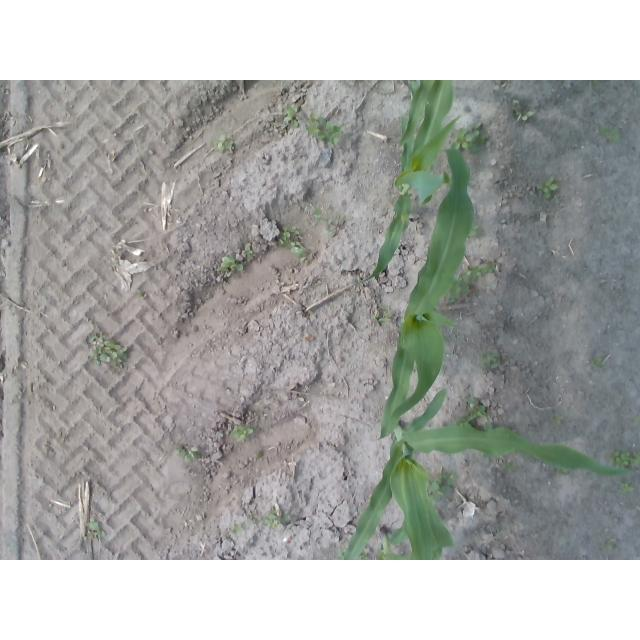Maize: (344, 389, 629, 560), (377, 149, 476, 444), (356, 81, 462, 284), (402, 81, 430, 148), (376, 526, 409, 558)
Weeds: (87, 334, 127, 370), (174, 442, 203, 463), (318, 120, 342, 144), (266, 508, 291, 530), (513, 101, 535, 123), (612, 452, 640, 469), (538, 177, 558, 200), (451, 279, 470, 303), (453, 128, 472, 149), (305, 113, 319, 139), (600, 125, 620, 143), (284, 105, 300, 127), (211, 136, 233, 152), (293, 243, 316, 258), (461, 265, 480, 283), (466, 398, 487, 414), (221, 257, 243, 272), (279, 235, 301, 249), (87, 522, 106, 538), (428, 483, 444, 502), (234, 426, 253, 442), (456, 413, 477, 426), (483, 351, 498, 368), (379, 305, 392, 323), (480, 264, 492, 277), (447, 471, 459, 484), (504, 462, 517, 474), (245, 249, 256, 261), (437, 473, 448, 484), (623, 483, 634, 494), (593, 357, 604, 367), (281, 230, 292, 239), (289, 226, 300, 235), (474, 122, 481, 136), (314, 207, 322, 219), (479, 134, 489, 143), (556, 413, 564, 423), (233, 525, 244, 532), (325, 229, 336, 236), (137, 291, 147, 298), (473, 225, 479, 236), (325, 219, 333, 226), (336, 214, 343, 222), (249, 517, 256, 523), (329, 206, 335, 211), (594, 80, 599, 84)
